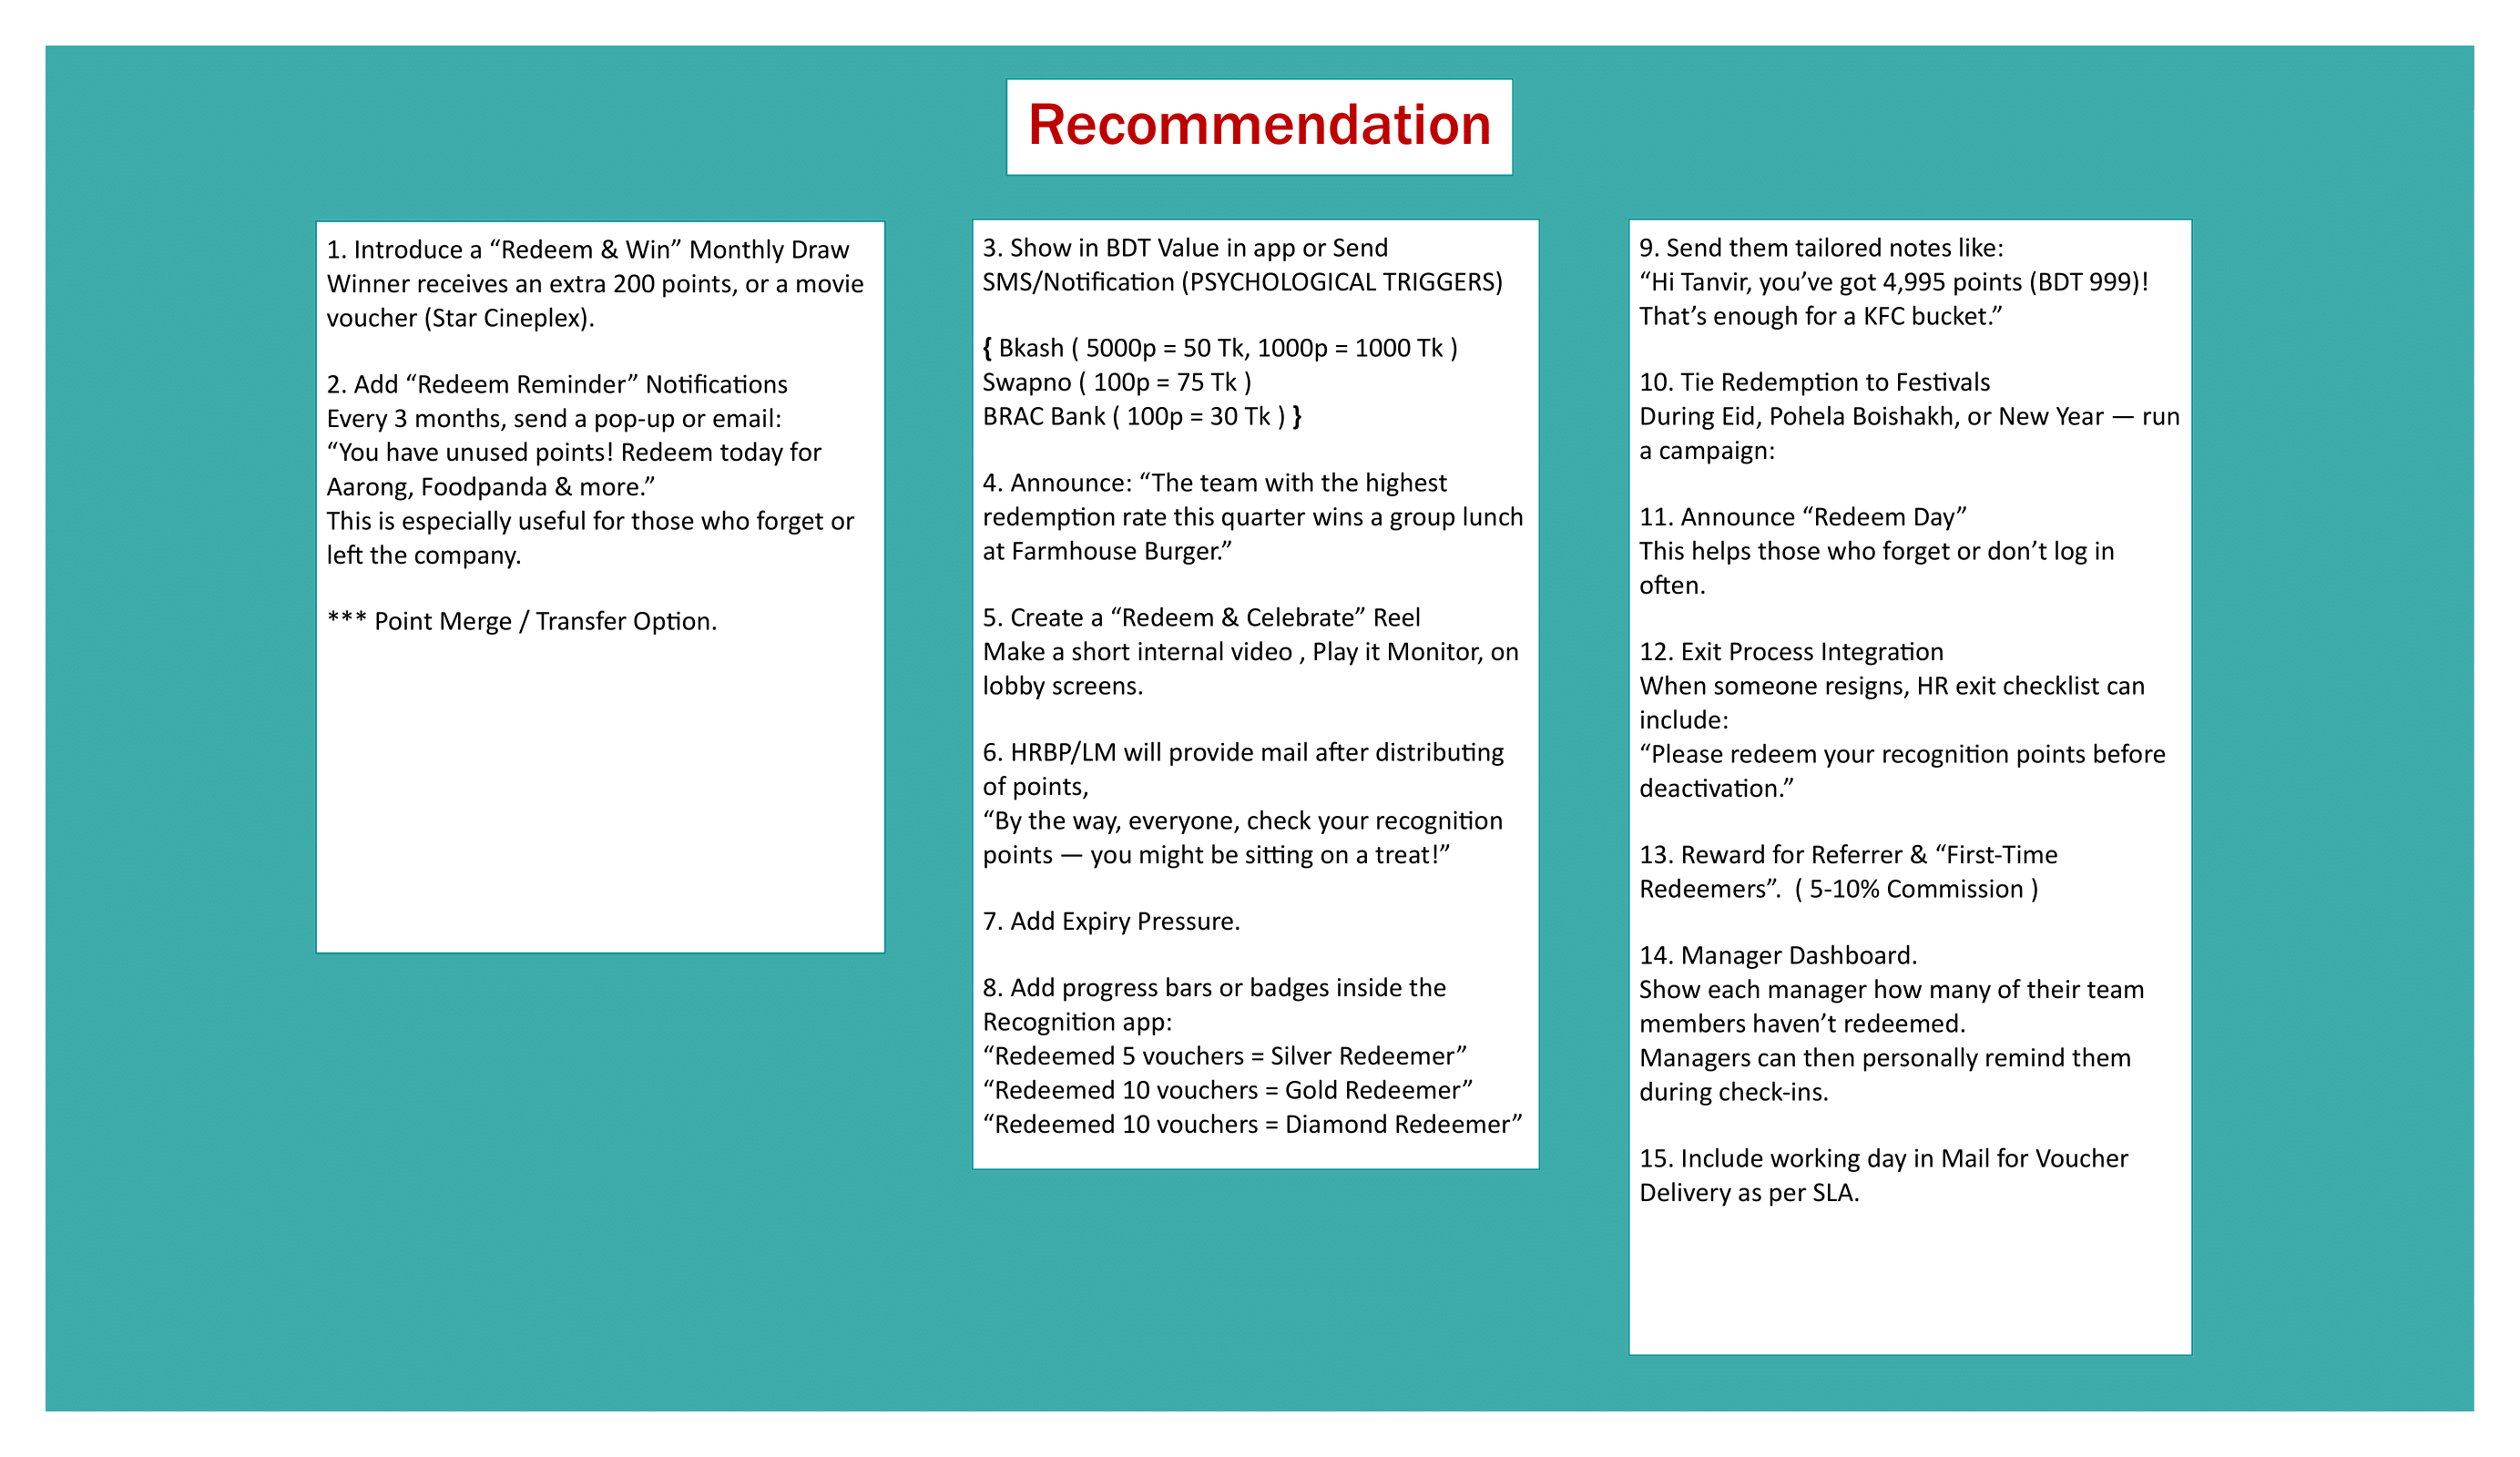

What the dashboard file says about the page in this screenshot:
{"tool":"powerbi","page":{"name":"Recommendation","canvas":[1280,720],"ordinal":2},"visuals":[{"type":"textbox","box":[506,17,267.9,52.4],"z":0},{"type":"textbox","box":[142.4,92.1,301,387],"z":1000},{"type":"textbox","box":[488.4,91.1,300,502],"z":2000},{"type":"textbox","box":[834.4,91.1,298,600],"z":3000}]}

Visuals, with their boxes on the page's 1280x720 design canvas (x1, y1, x2, y2). These are canvas units, not pixel positions in the 2520x1457 screenshot, which may show the page scaled, cropped or inside an application window:
textbox: l=506, t=17, r=774, b=69
textbox: l=142, t=92, r=443, b=479
textbox: l=488, t=91, r=788, b=593
textbox: l=834, t=91, r=1132, b=691
